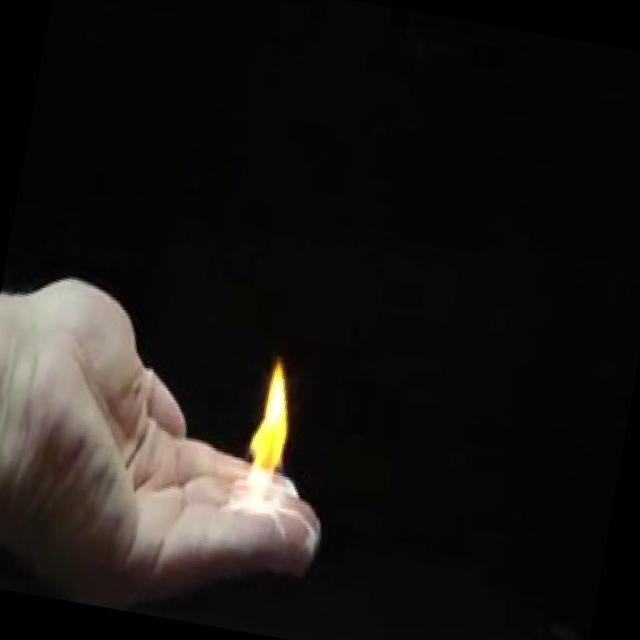Fire: (225, 340, 310, 520)
